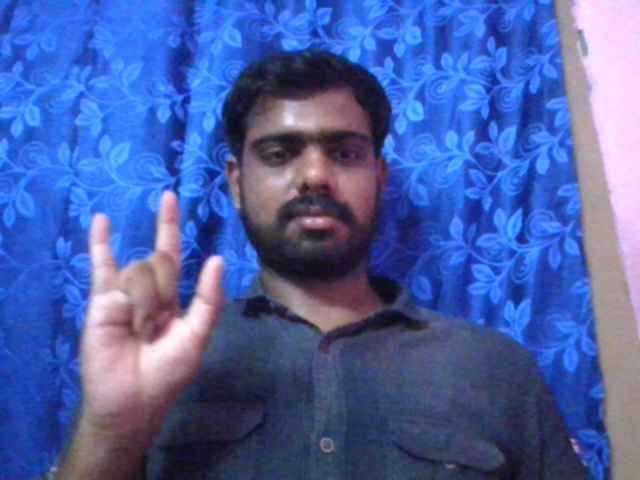IloveYou: (70, 186, 226, 407)
